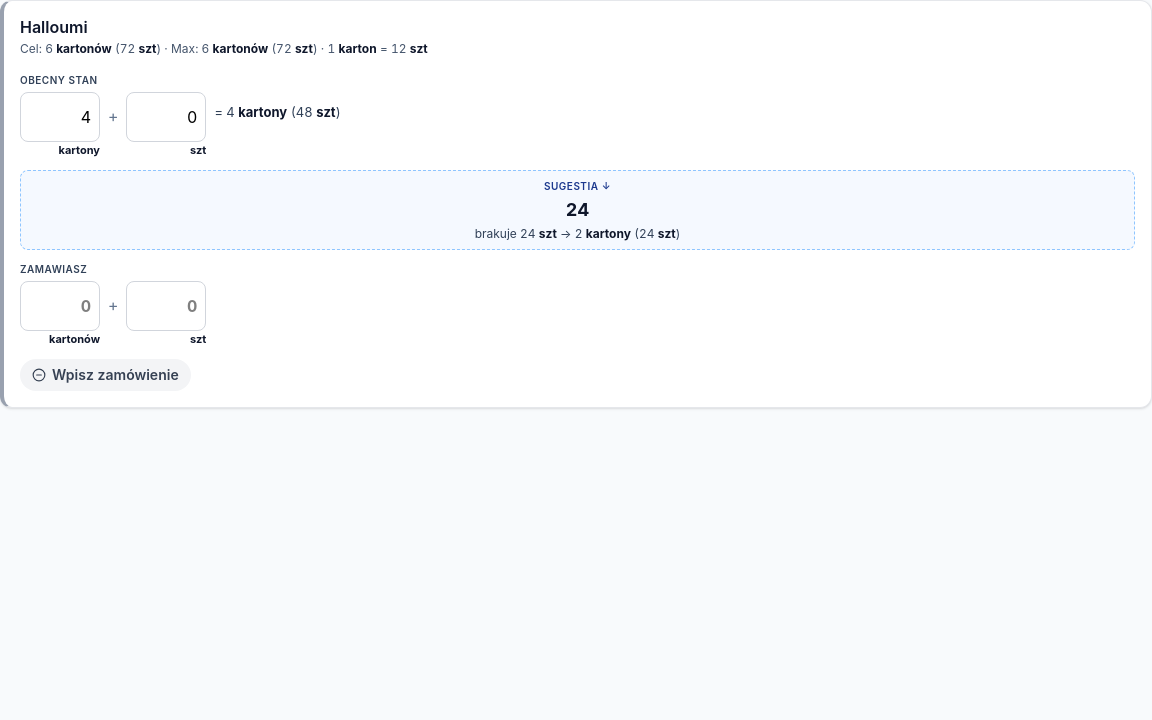
Test: ProductCard — N1 double entry in [cases] + [loose] › repro: 2 kartony + 24 szt orders 48 and the card says so; 'Tak' fixes it to 24
Type "2" into the field named "Zamawiasz, karton" at (60, 306), box [20,281,100,331]
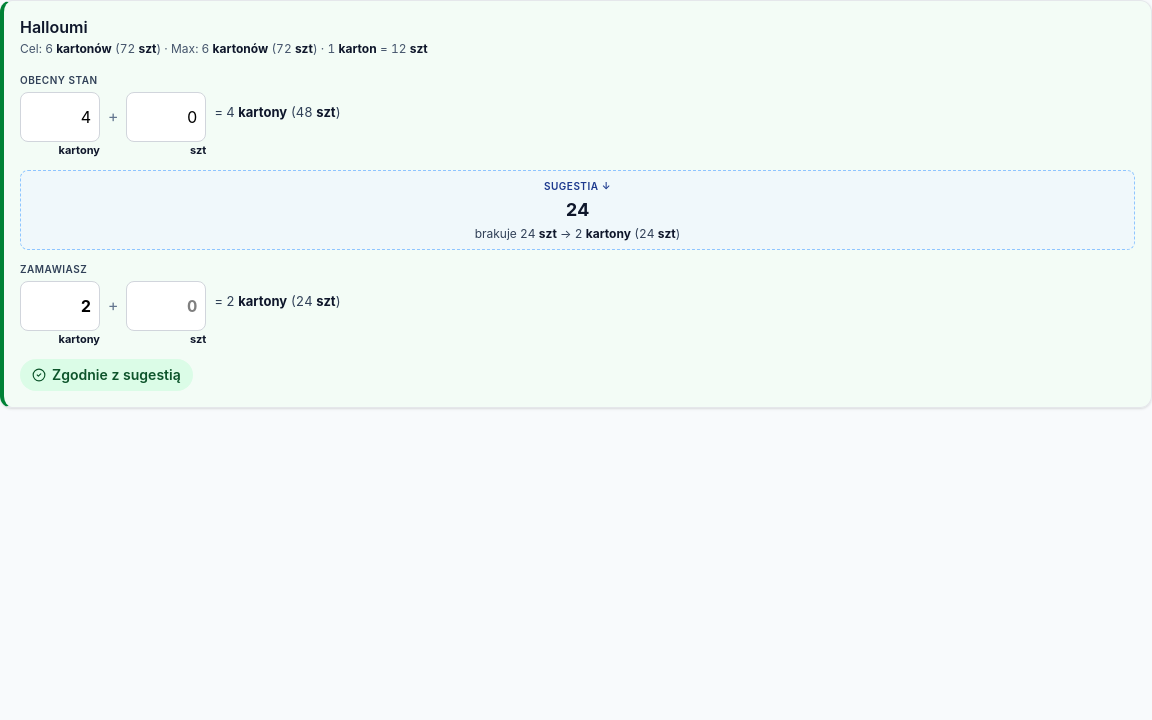
Type "24" into the field named "Zamawiasz, szt" at (166, 306), box [126,281,206,331]
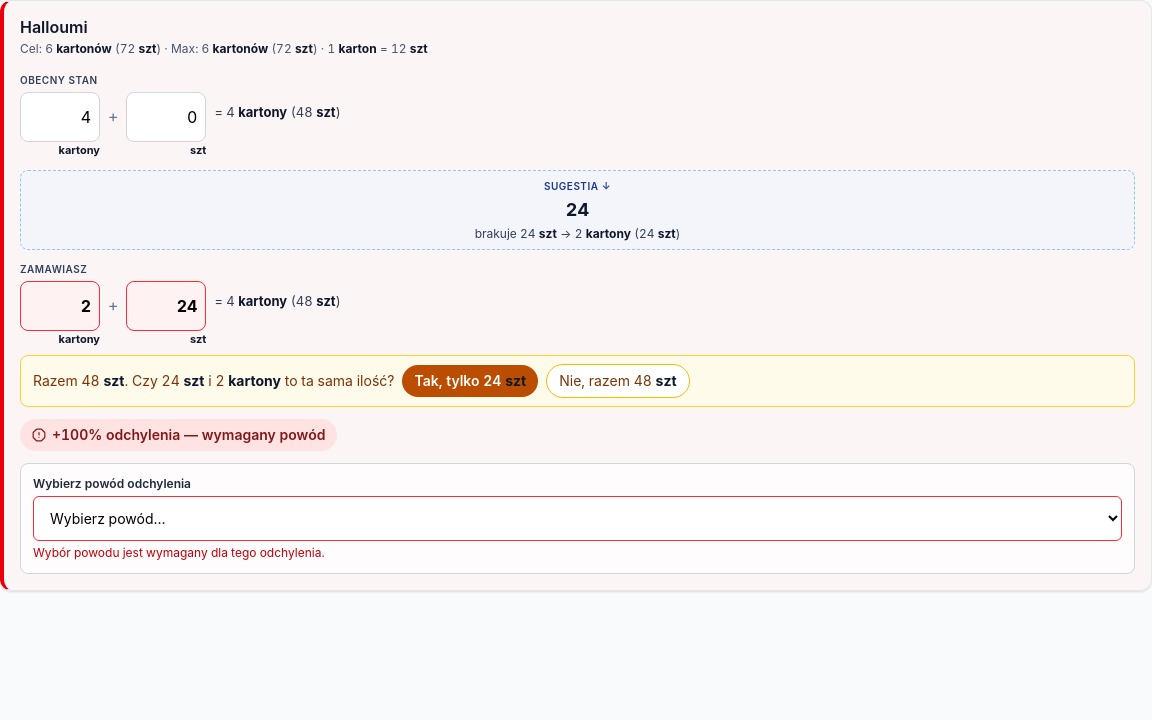
Click the button "Tak, tylko 24 szt" at (470, 380), box [402,364,538,396]
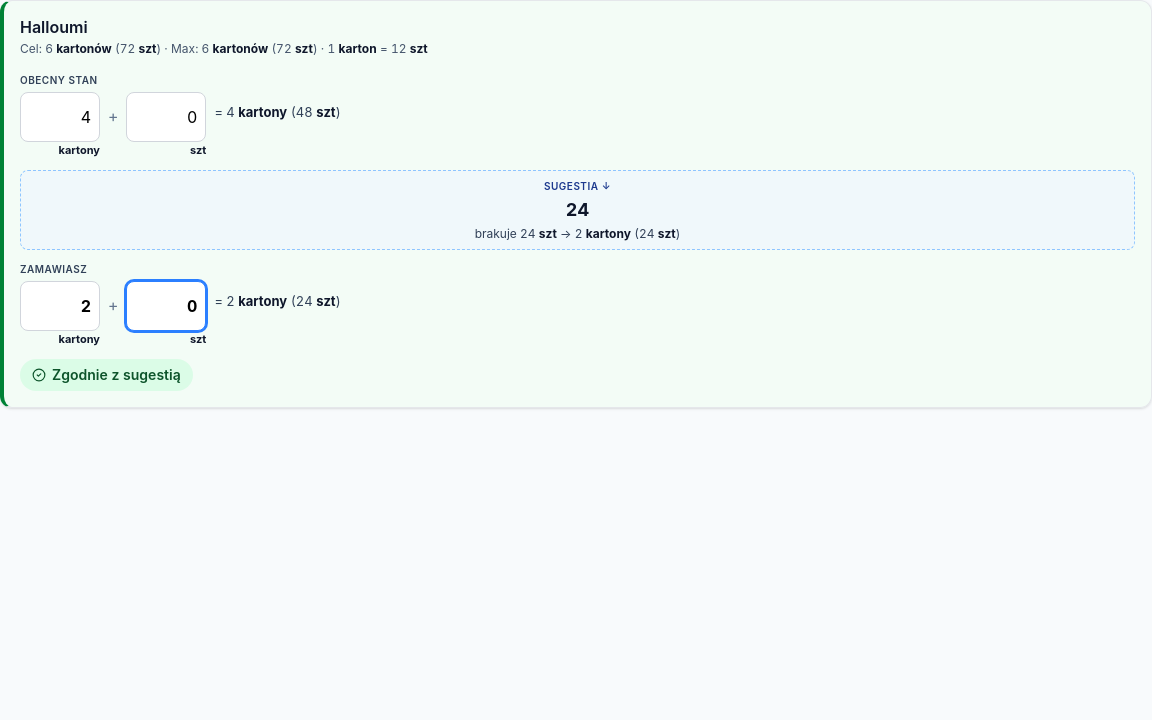
Check: the field named "Zamawiasz, szt" holds "0", box [126,281,206,331]
Check: the text "ta sama ilość" is gone
